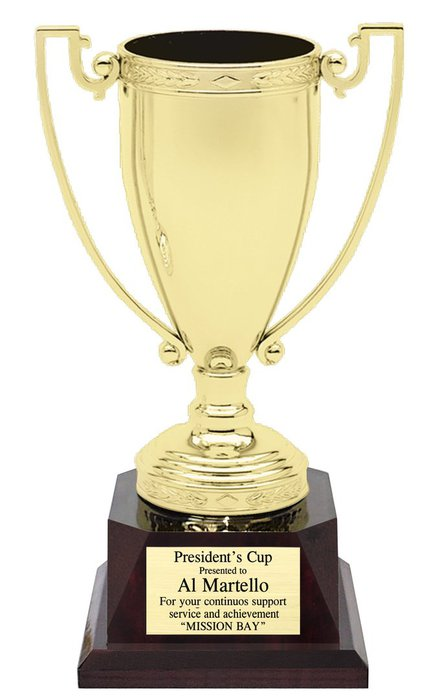trophy: (33, 21, 409, 700)
